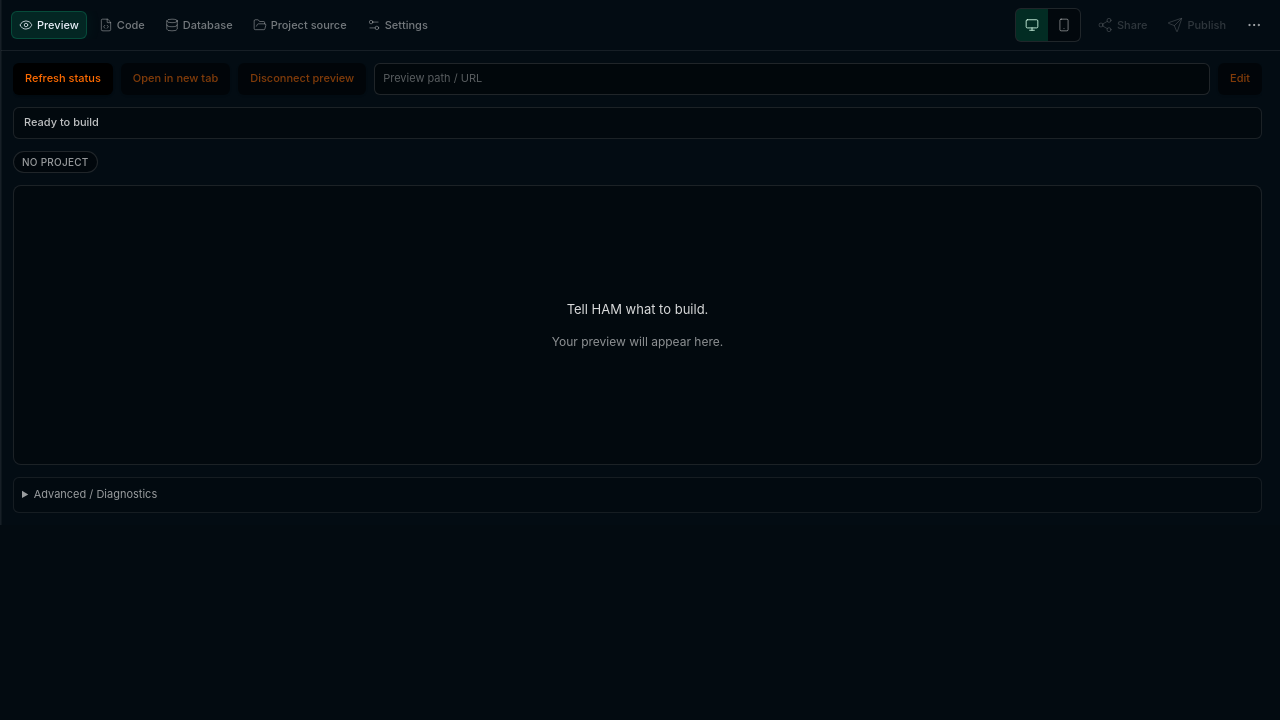
it: WorkspaceWorkbench › select Preview by default and switches panel content
Click the button with test id "hww-workbench-tab-code" at (122, 25), box [91, 11, 153, 39]
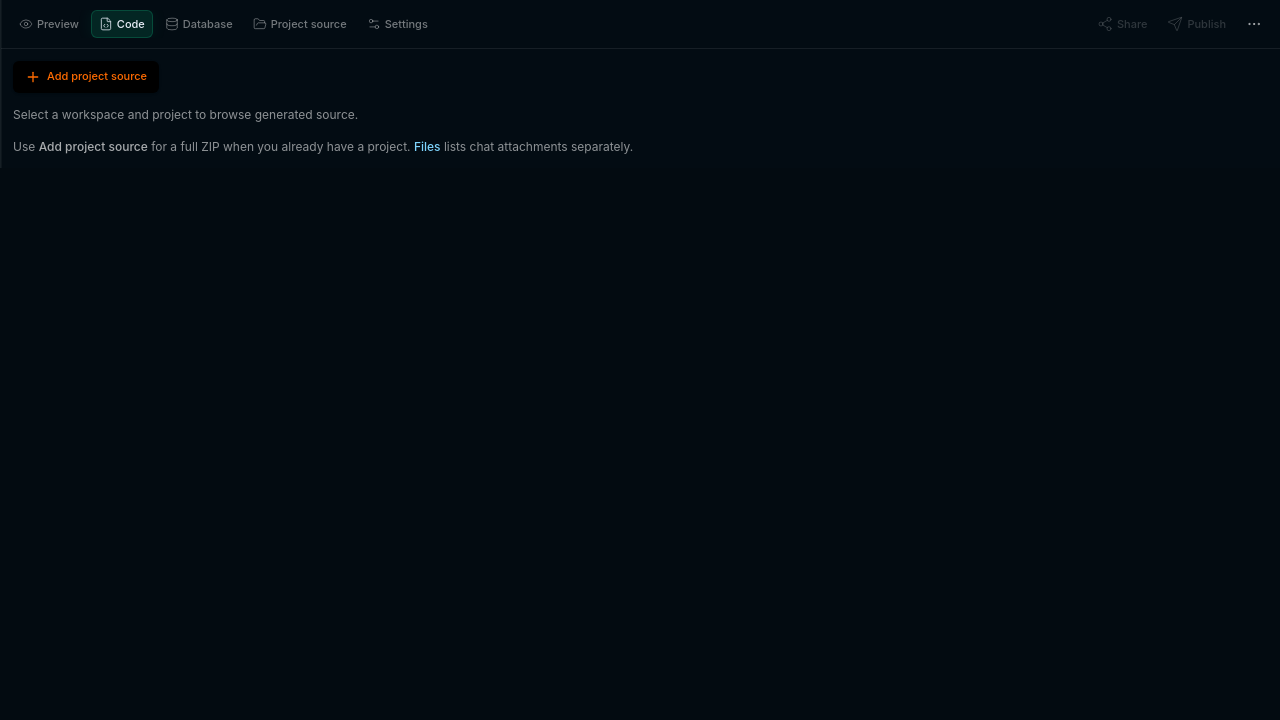
Expected: the element with test id "hww-workbench-panel-code" is shown, [13, 61, 633, 154]
